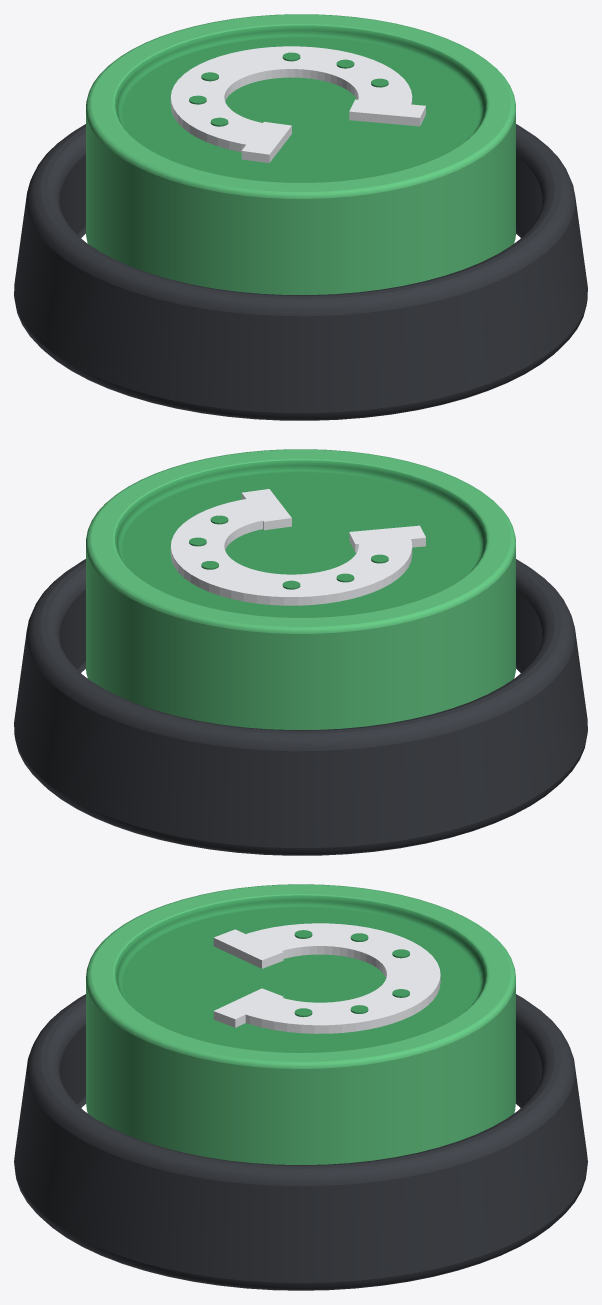
Rendered from HorseshoeButton.fbx.
3 renders of one model, top to bottom at view 1: azimuth 30°, elevation 25°; view 2: azimuth 150°, elevation 25°; view 3: azimuth 270°, elevation 25°, orthographic.
Parts seen in each view (by area): view 1: HorseshoeButton_Cap, HorseshoeButton_Base; view 2: HorseshoeButton_Cap, HorseshoeButton_Base; view 3: HorseshoeButton_Cap, HorseshoeButton_Base.
Part boxes in pixels (x1,y1,x2,y2): HorseshoeButton_Cap: (86,14,515,294); HorseshoeButton_Base: (14,124,587,420); HorseshoeButton_Cap: (86,449,515,729); HorseshoeButton_Base: (14,559,587,855); HorseshoeButton_Cap: (86,884,515,1164); HorseshoeButton_Base: (14,994,587,1290).
Bounding box in the file's own units: 0.0547 × 0.0211 × 0.0547.
